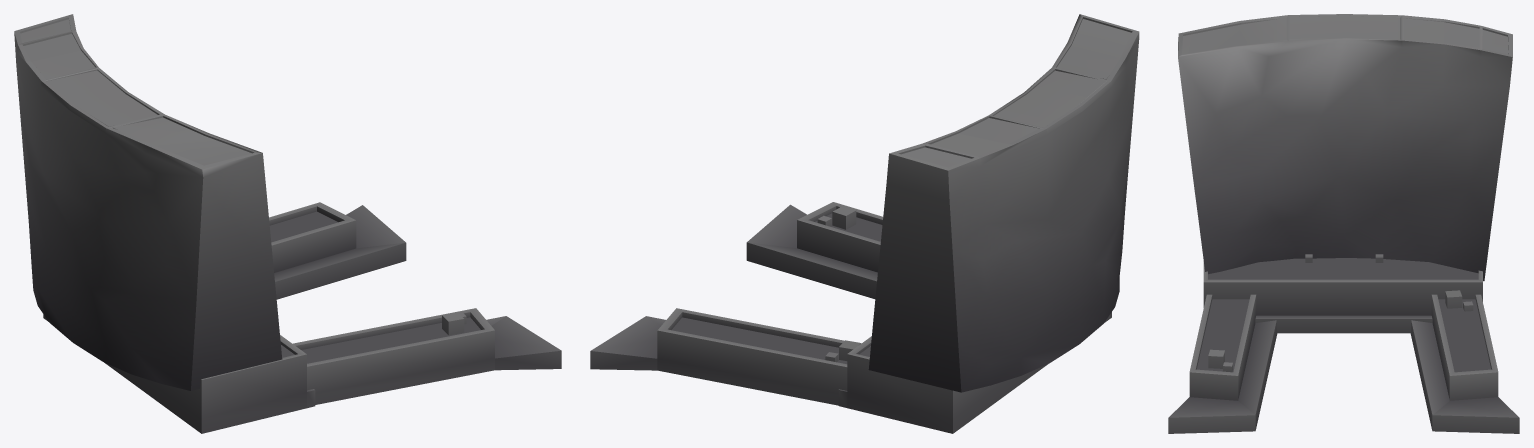
Rendered from SM_Dam_Smooth.fbx.
3 views of the same model, side by side, from view 1: azimuth 30°, elevation 25°; view 2: azimuth 150°, elevation 25°; view 3: azimuth 270°, elevation 25° (orthographic). The views are drawn at different scales.
Visible parts, largest first — view 1: DamBroken.023, DamBroken.001; view 2: DamBroken.023, DamBroken.001; view 3: DamBroken.023, DamBroken.001.
Part boxes in pixels (x1,y1,x2,y2): DamBroken.023: (14, 14, 282, 390); DamBroken.001: (43, 202, 561, 433); DamBroken.023: (868, 14, 1139, 392); DamBroken.001: (590, 202, 1111, 433); DamBroken.023: (1178, 14, 1512, 281); DamBroken.001: (1168, 254, 1519, 433).
Size of the model in its own units: 2740 by 2413 by 1910.
